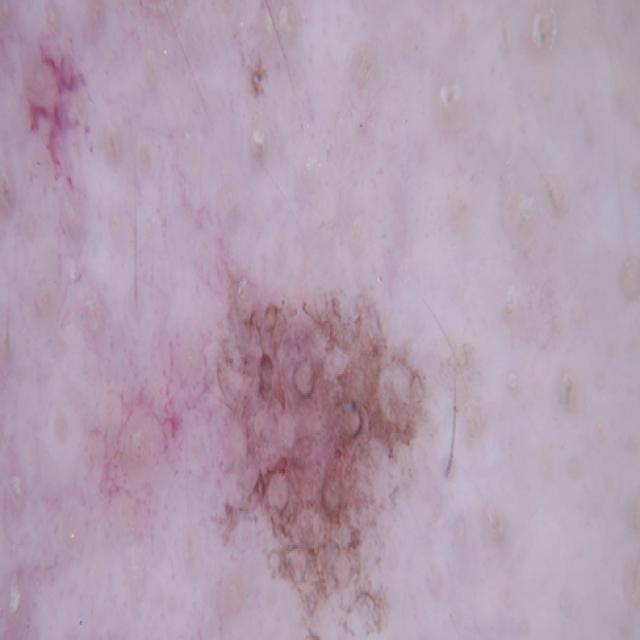Keratosis: (165, 218, 487, 640)
